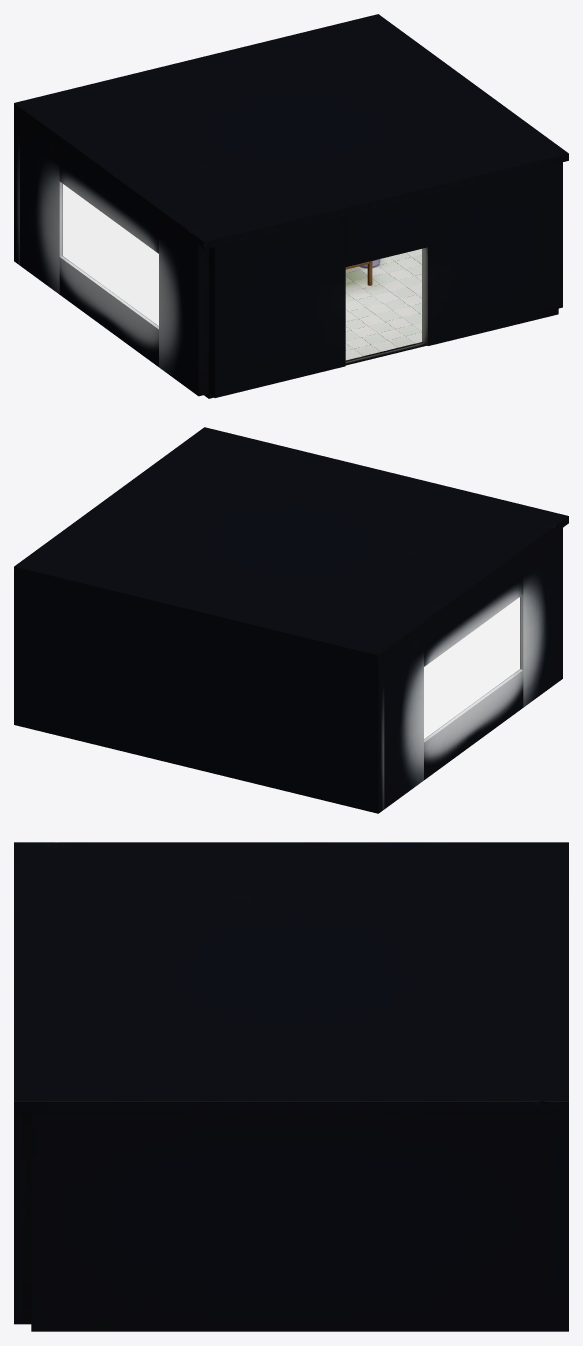
The model's file is room_stocks_m.glb.
3 renders of one model, top to bottom at view 1: azimuth 30°, elevation 25°; view 2: azimuth 150°, elevation 25°; view 3: azimuth 270°, elevation 25°, orthographic. The views are drawn at different scales.
Parts seen in each view (by area): view 1: baked_ceiling, baked_walls, baked_floor, window_glass; view 2: baked_walls, baked_ceiling, window_glass; view 3: baked_ceiling, baked_walls.
Part boxes in pixels (x1,y1,x2,y2): baked_ceiling: (14,14,568,249); baked_walls: (14,110,562,397); baked_floor: (204,249,426,398); window_glass: (63,184,158,325); baked_walls: (14,528,562,813); baked_ceiling: (14,427,568,662); window_glass: (424,597,519,738); baked_ceiling: (14,842,568,1111); baked_walls: (14,1111,568,1331).
Size of the model in its own units: 10.6 by 4.54 by 9.6.
Materials: 13 (4 with a texture image).
